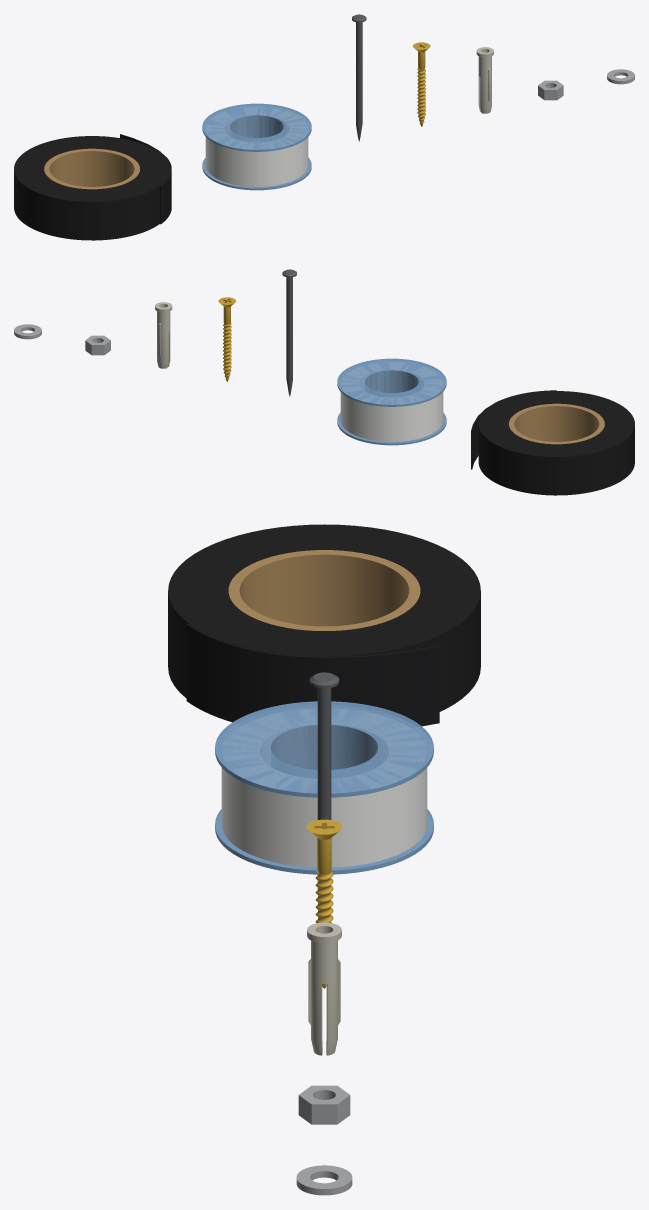
Rendered from todos_os_blocos.dae.
3 views of the same model, one above another, from view 1: azimuth 30°, elevation 25°; view 2: azimuth 150°, elevation 25°; view 3: azimuth 270°, elevation 25° (orthographic). The views are drawn at different scales.
Parts seen in each view (by area): view 1: Fita isolante 19mm (×2), Fita veda-rosca 18mm (×2), Bucha nylon 6mm, Prego 17x27 (3,0 x 62mm), Parafuso 4,0 x 40mm Phillips, Porca sextavada M6, Arruela lisa M6; view 2: Fita isolante 19mm (×2), Fita veda-rosca 18mm (×2), Bucha nylon 6mm, Prego 17x27 (3,0 x 62mm), Parafuso 4,0 x 40mm Phillips, Porca sextavada M6, Arruela lisa M6; view 3: Fita isolante 19mm (×2), Fita veda-rosca 18mm (×2), Bucha nylon 6mm, Prego 17x27 (3,0 x 62mm), Parafuso 4,0 x 40mm Phillips, Porca sextavada M6, Arruela lisa M6.
Part boxes in pixels (x1,y1,x2,y2): Fita isolante 19mm (×2): (14,134,171,240); Fita veda-rosca 18mm (×2): (202,103,311,190); Bucha nylon 6mm: (476,47,493,113); Prego 17x27 (3,0 x 62mm): (352,14,366,141); Parafuso 4,0 x 40mm Phillips: (412,42,430,126); Porca sextavada M6: (538,80,563,100); Arruela lisa M6: (607,69,634,84); Fita isolante 19mm (×2): (471,390,634,495); Fita veda-rosca 18mm (×2): (337,358,446,445); Bucha nylon 6mm: (155,302,172,368); Prego 17x27 (3,0 x 62mm): (282,269,296,396); Parafuso 4,0 x 40mm Phillips: (218,297,236,381); Porca sextavada M6: (85,335,110,355); Arruela lisa M6: (14,324,41,339); Fita isolante 19mm (×2): (168,524,480,726); Fita veda-rosca 18mm (×2): (215,701,433,874); Bucha nylon 6mm: (307,922,341,1055); Prego 17x27 (3,0 x 62mm): (309,672,339,889); Parafuso 4,0 x 40mm Phillips: (306,819,342,988); Porca sextavada M6: (298,1085,350,1124); Arruela lisa M6: (296,1165,352,1195).
Size of the model in its own units: 315 by 70 by 62.
